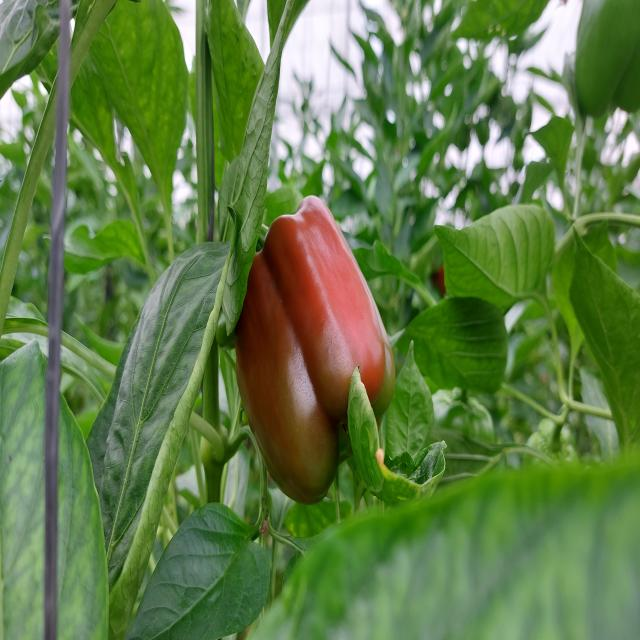Red-Ready-to-Harvest: (227, 196, 400, 524)
